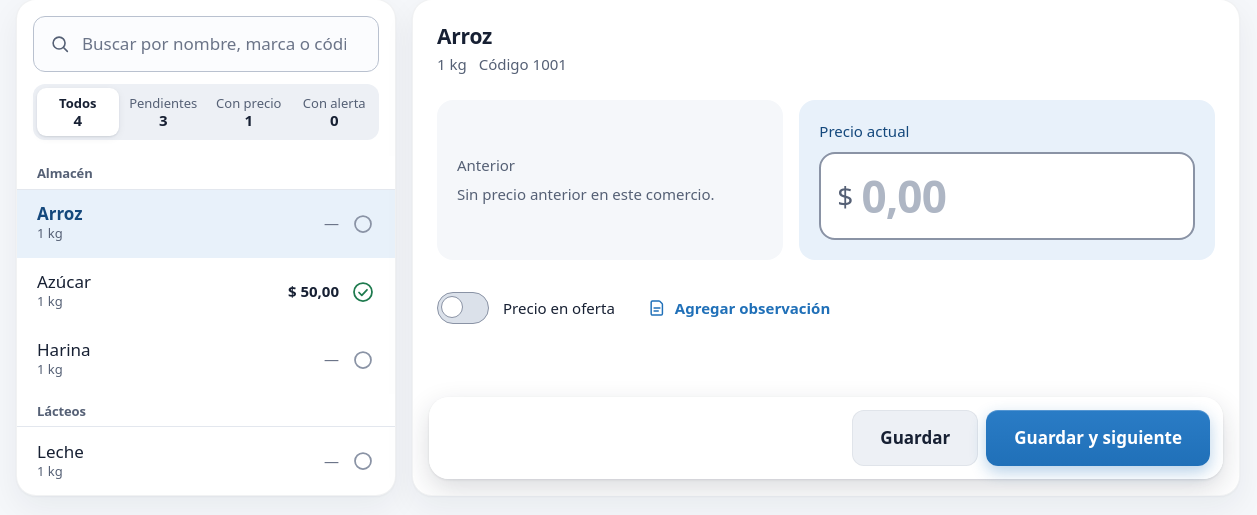
Test: VisitaWorkspace › Guardar y siguiente saves, selects the next pending producto and focuses its price field
Expected: the heading "Arroz" is shown, left=437, top=22, right=492, bottom=50
Type "100" into the field labelled "Precio actual". click: (1019, 196)
box: left=861, top=170, right=1177, bottom=223
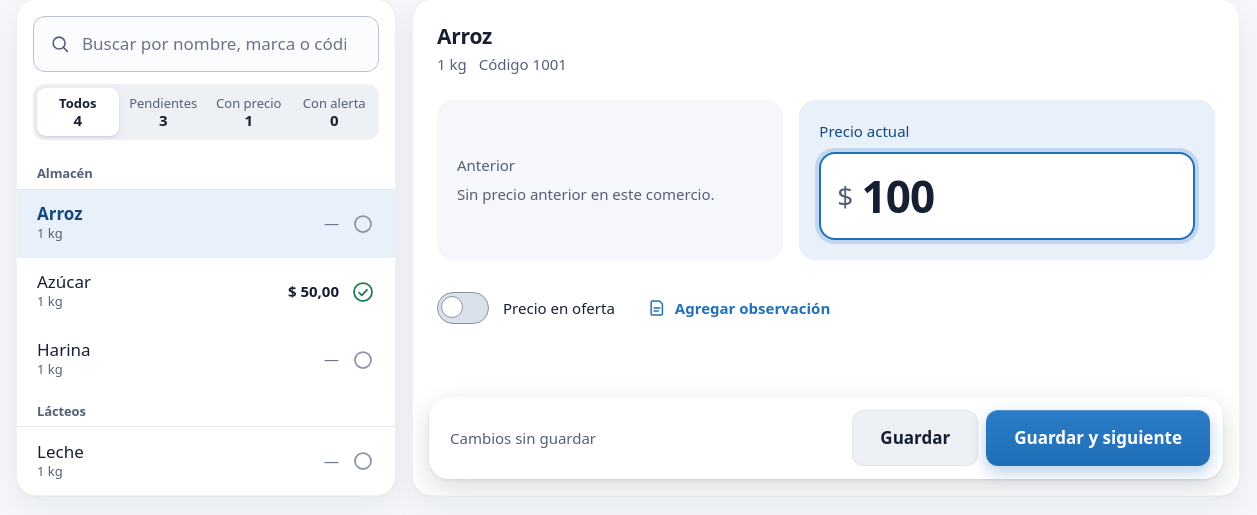
Click the button "Guardar y siguiente". click: (1098, 438)
box: left=986, top=410, right=1210, bottom=466
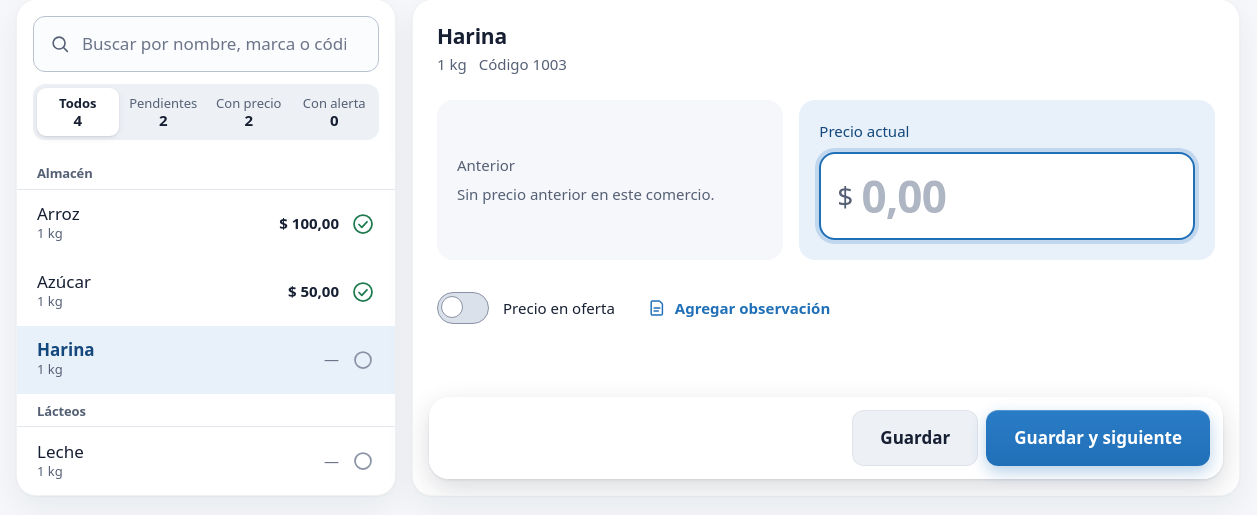
Expected: the heading "Harina" is shown, left=437, top=22, right=507, bottom=50
Expected: the field labelled "Precio actual" is empty, left=861, top=170, right=1177, bottom=223
